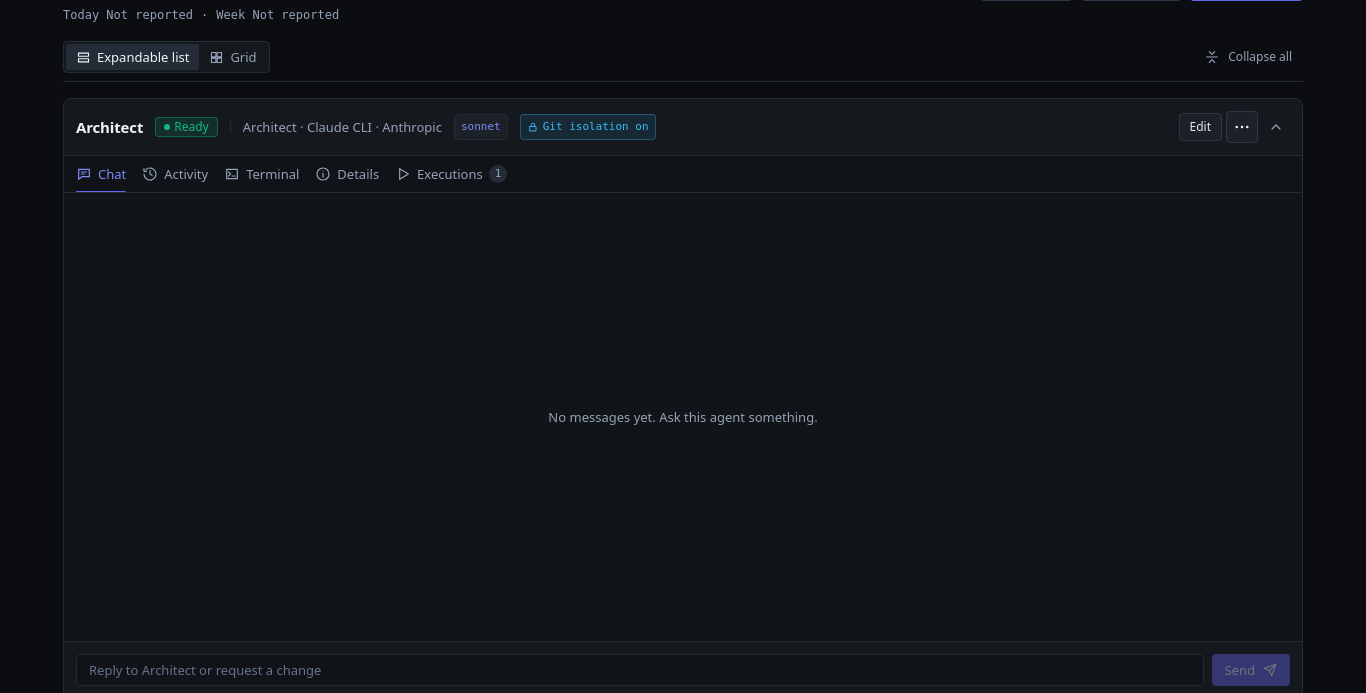
Test: the Git section of the inspector › shows base, branch, worktree, changes, tests and merge state of an isolated execution
This screenshot has width=1366, height=693.
Step 1. Click the tab "Executions 1" → (451, 174), box [395,156,507,192]
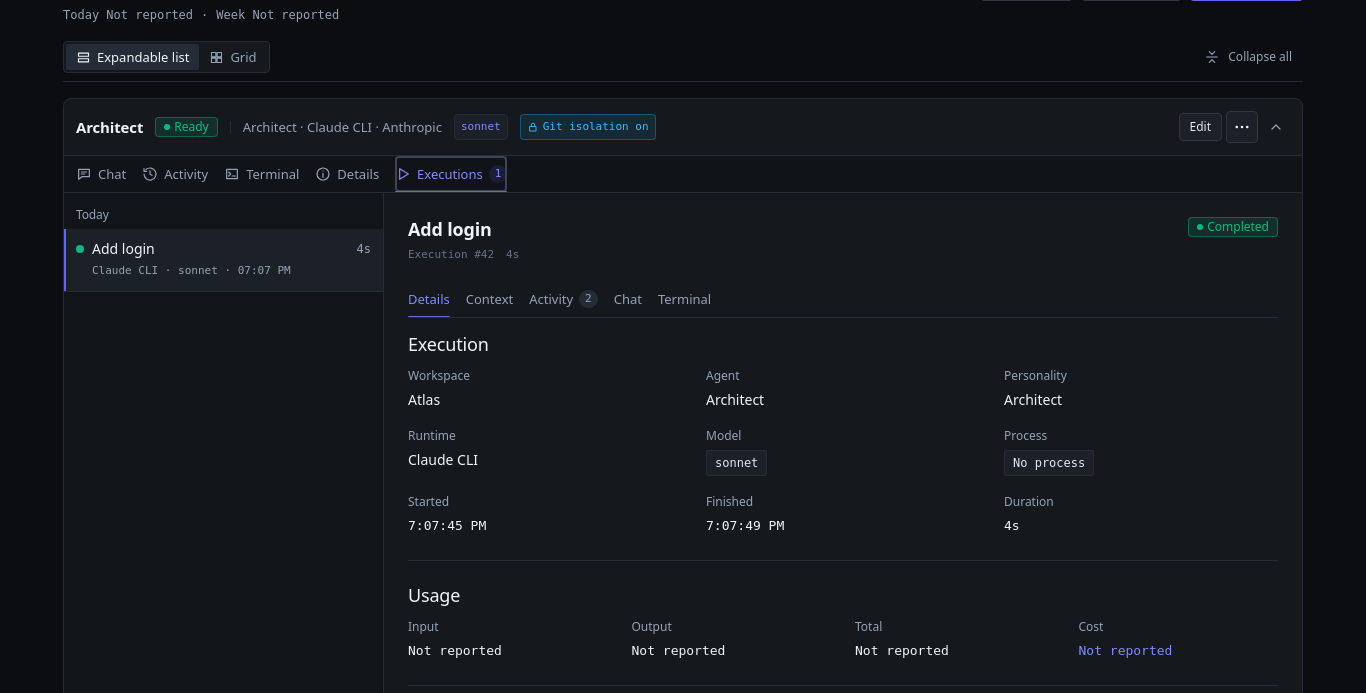
Step 2. Click the button with aria-label "Inspect execution #42" → (123, 248), box [64,229,383,292]
(page scrolled)
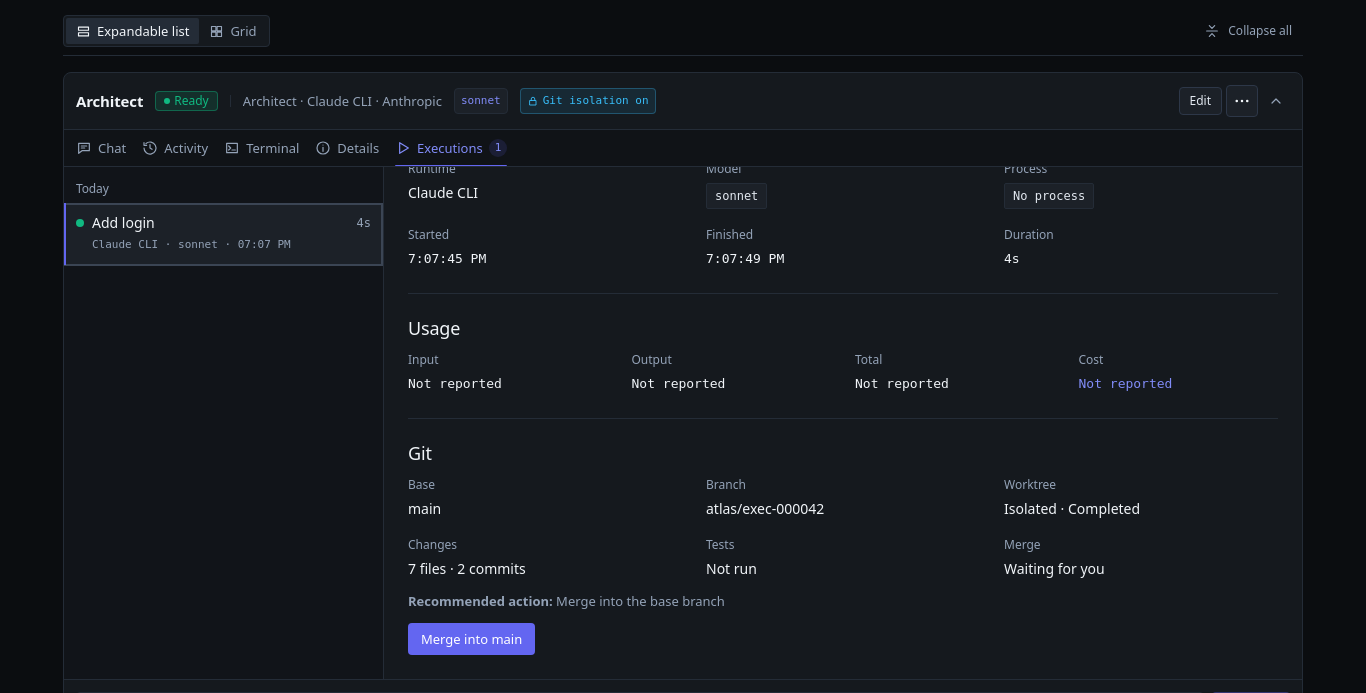
Expected: the text "main" is shown, [408,499,441,518]
Expected: the text "atlas/exec-000042" is shown, [706,499,824,518]
Expected: the text "Isolated · Completed" is shown, [1004,499,1140,518]
